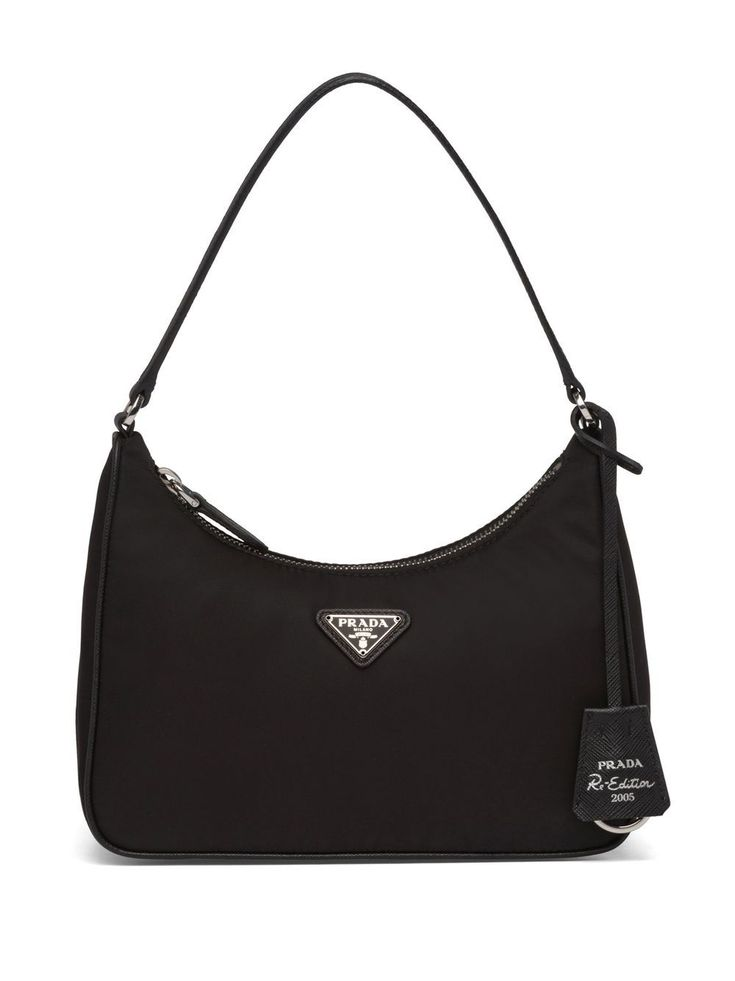nylon: (79, 431, 650, 865)
